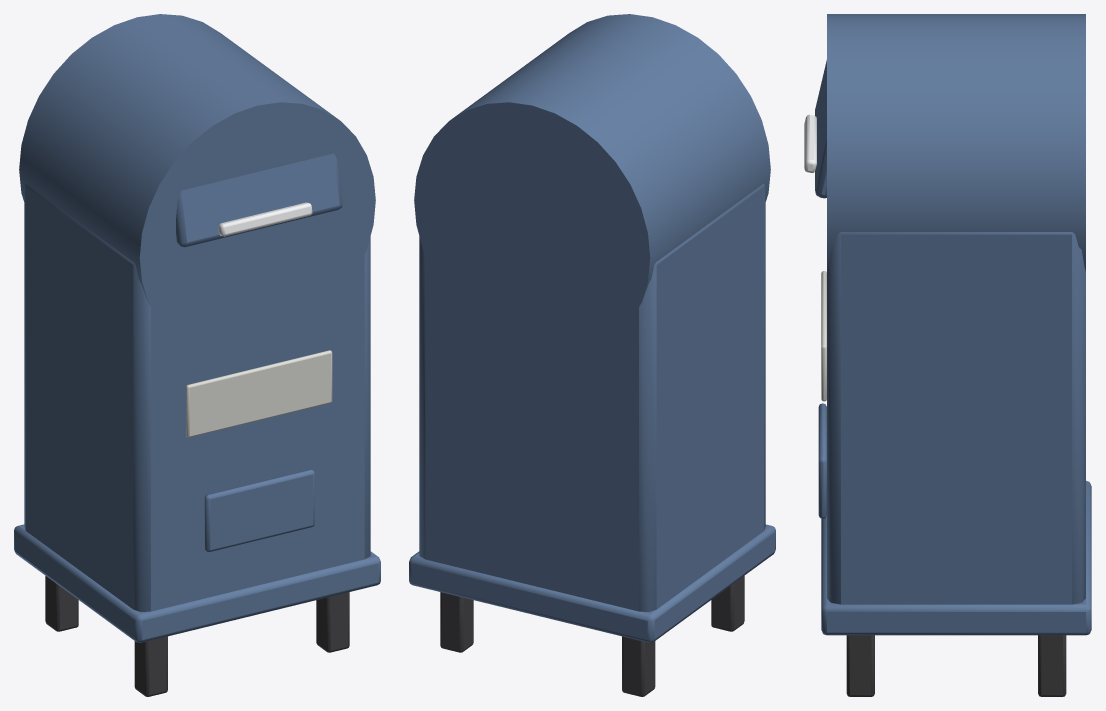
File: mailbox.glb
3 views of the same model, side by side, from view 1: azimuth 30°, elevation 25°; view 2: azimuth 150°, elevation 25°; view 3: azimuth 270°, elevation 25° (orthographic). The views are drawn at different scales.
Visible parts, largest first — view 1: mailbox; view 2: mailbox; view 3: mailbox.
Part boxes in pixels (bbox=[...]): mailbox: bbox=[14, 14, 380, 696]; mailbox: bbox=[409, 14, 775, 696]; mailbox: bbox=[804, 14, 1091, 696].
Bounding box in the file's own units: 0.54 × 1.21 × 0.5101.
